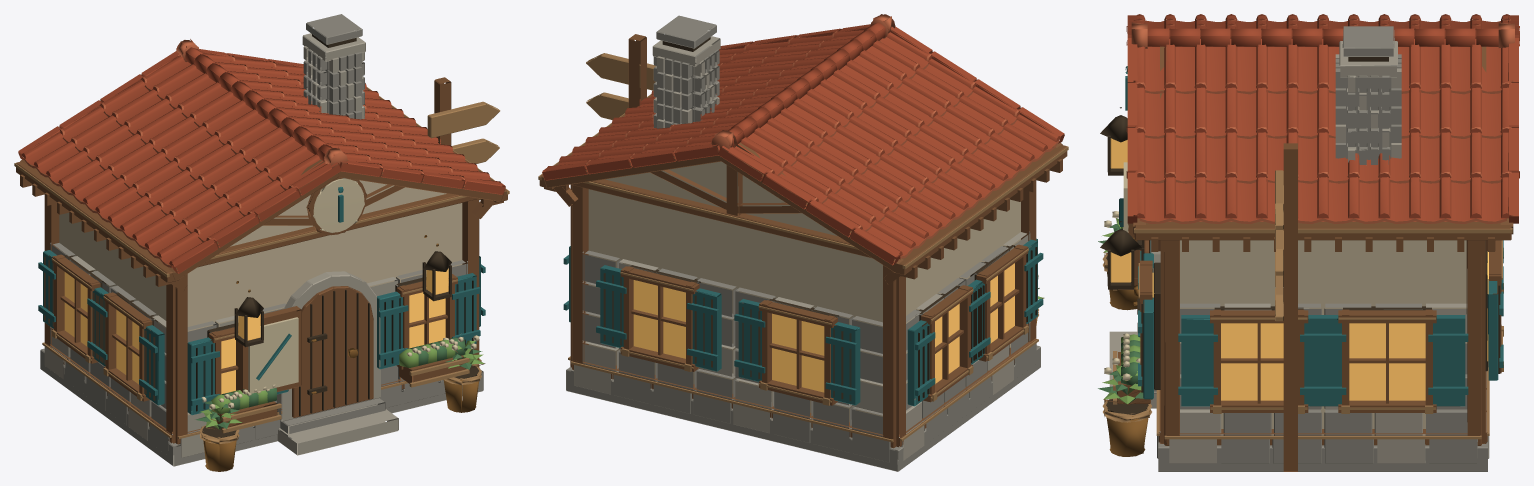
The picture shows the model from 3 angles, left to right: view 1: azimuth 30°, elevation 25°; view 2: azimuth 150°, elevation 25°; view 3: azimuth 270°, elevation 25°; orthographic projection. The views are drawn at different scales.
Parts seen in each view (by area): view 1: alpine_junction_hub_geometry; view 2: alpine_junction_hub_geometry; view 3: alpine_junction_hub_geometry.
Boxes of the visible parts, <box> form: alpine_junction_hub_geometry: <box>14,14,509,471</box>; alpine_junction_hub_geometry: <box>538,14,1068,471</box>; alpine_junction_hub_geometry: <box>1098,14,1519,471</box>.
Size of the model in its own units: 1.04 by 0.8093 by 0.7822.
